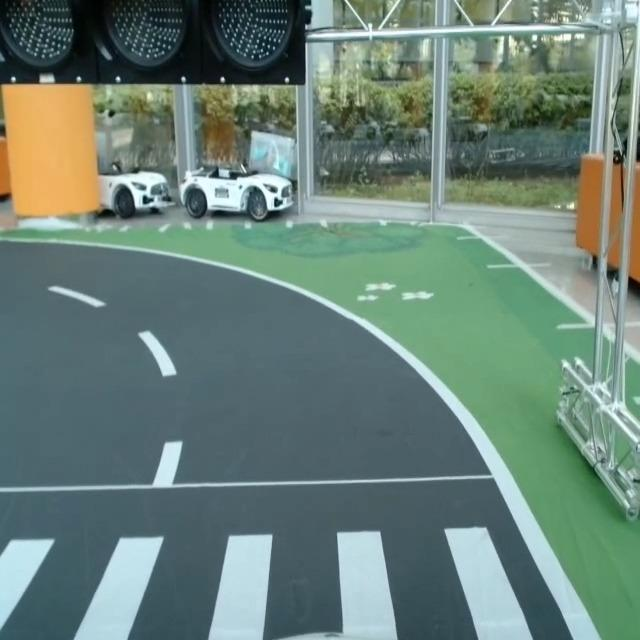traffic-light: (0, 0, 312, 88)
